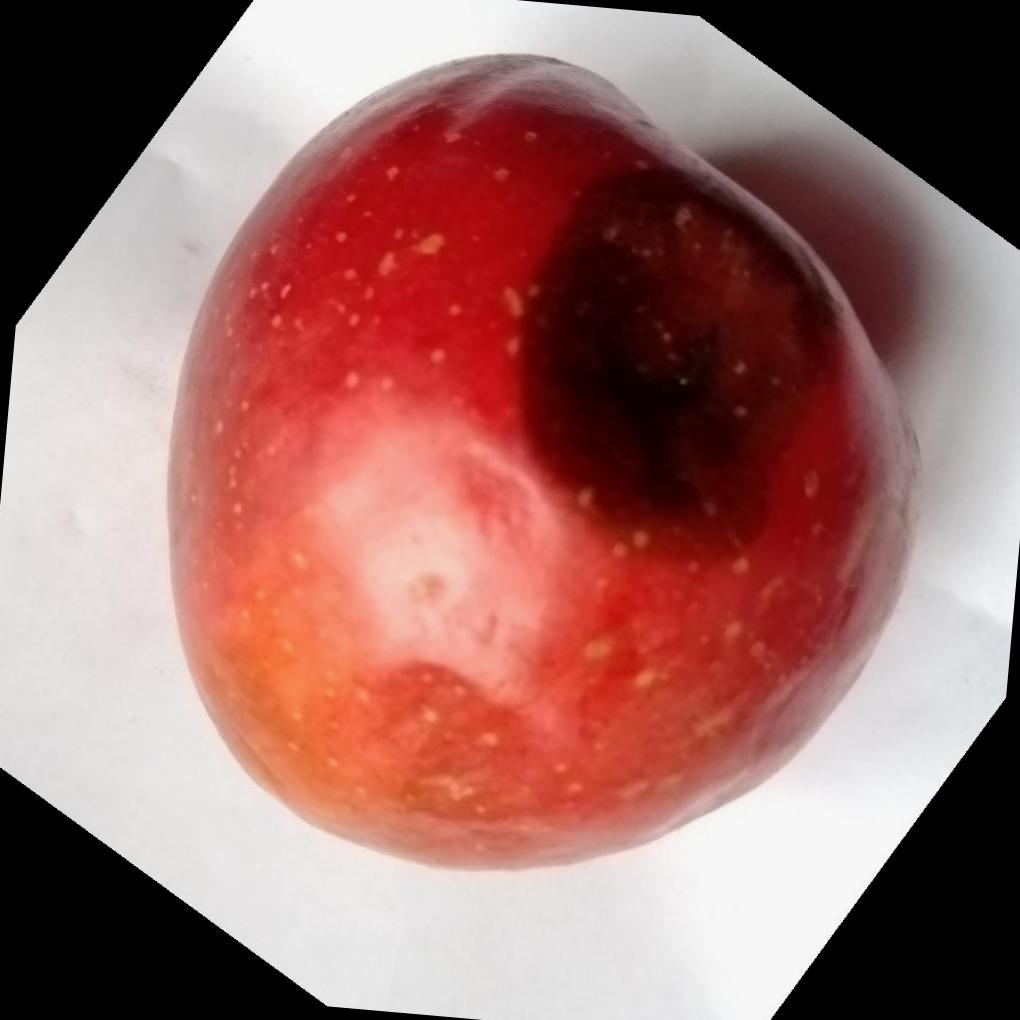FreshOrange: (162, 47, 925, 870)
